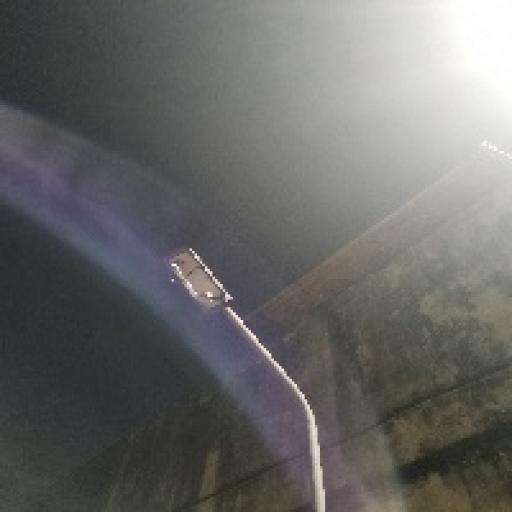Not Working: (151, 238, 250, 333)
